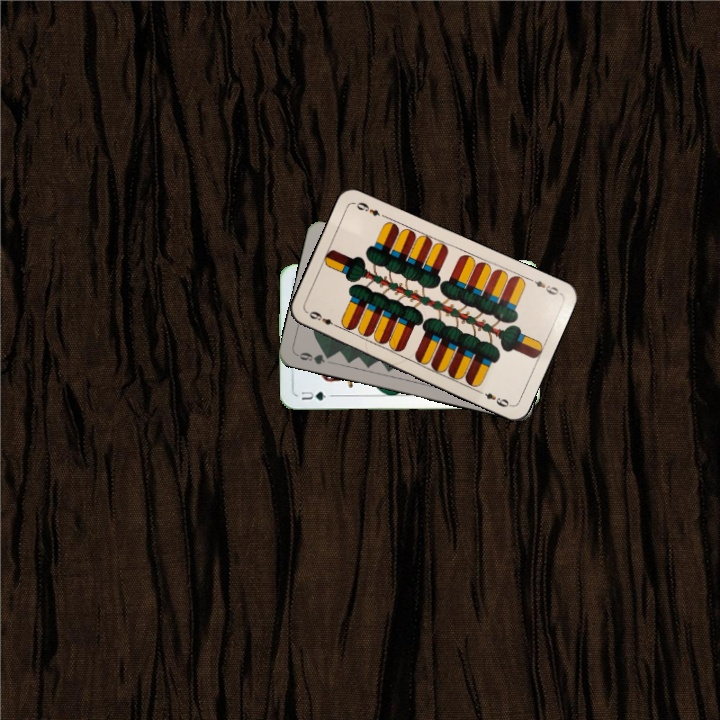E9: (524, 274, 563, 298), (303, 307, 342, 330)
G9: (293, 348, 335, 367)
GU: (297, 387, 335, 403)
